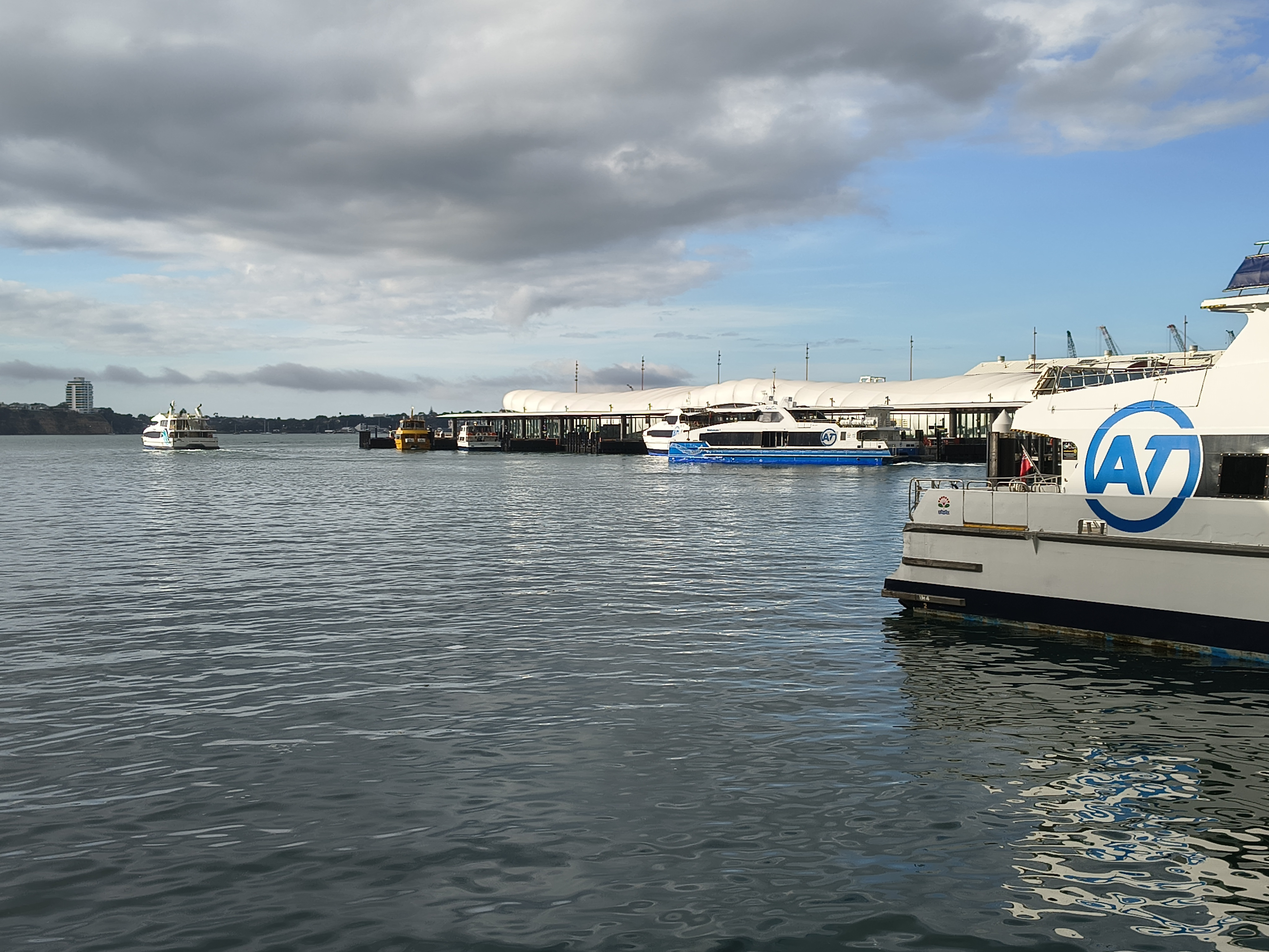ferry: (879, 237, 1268, 663), (642, 391, 921, 468), (140, 403, 218, 448)
